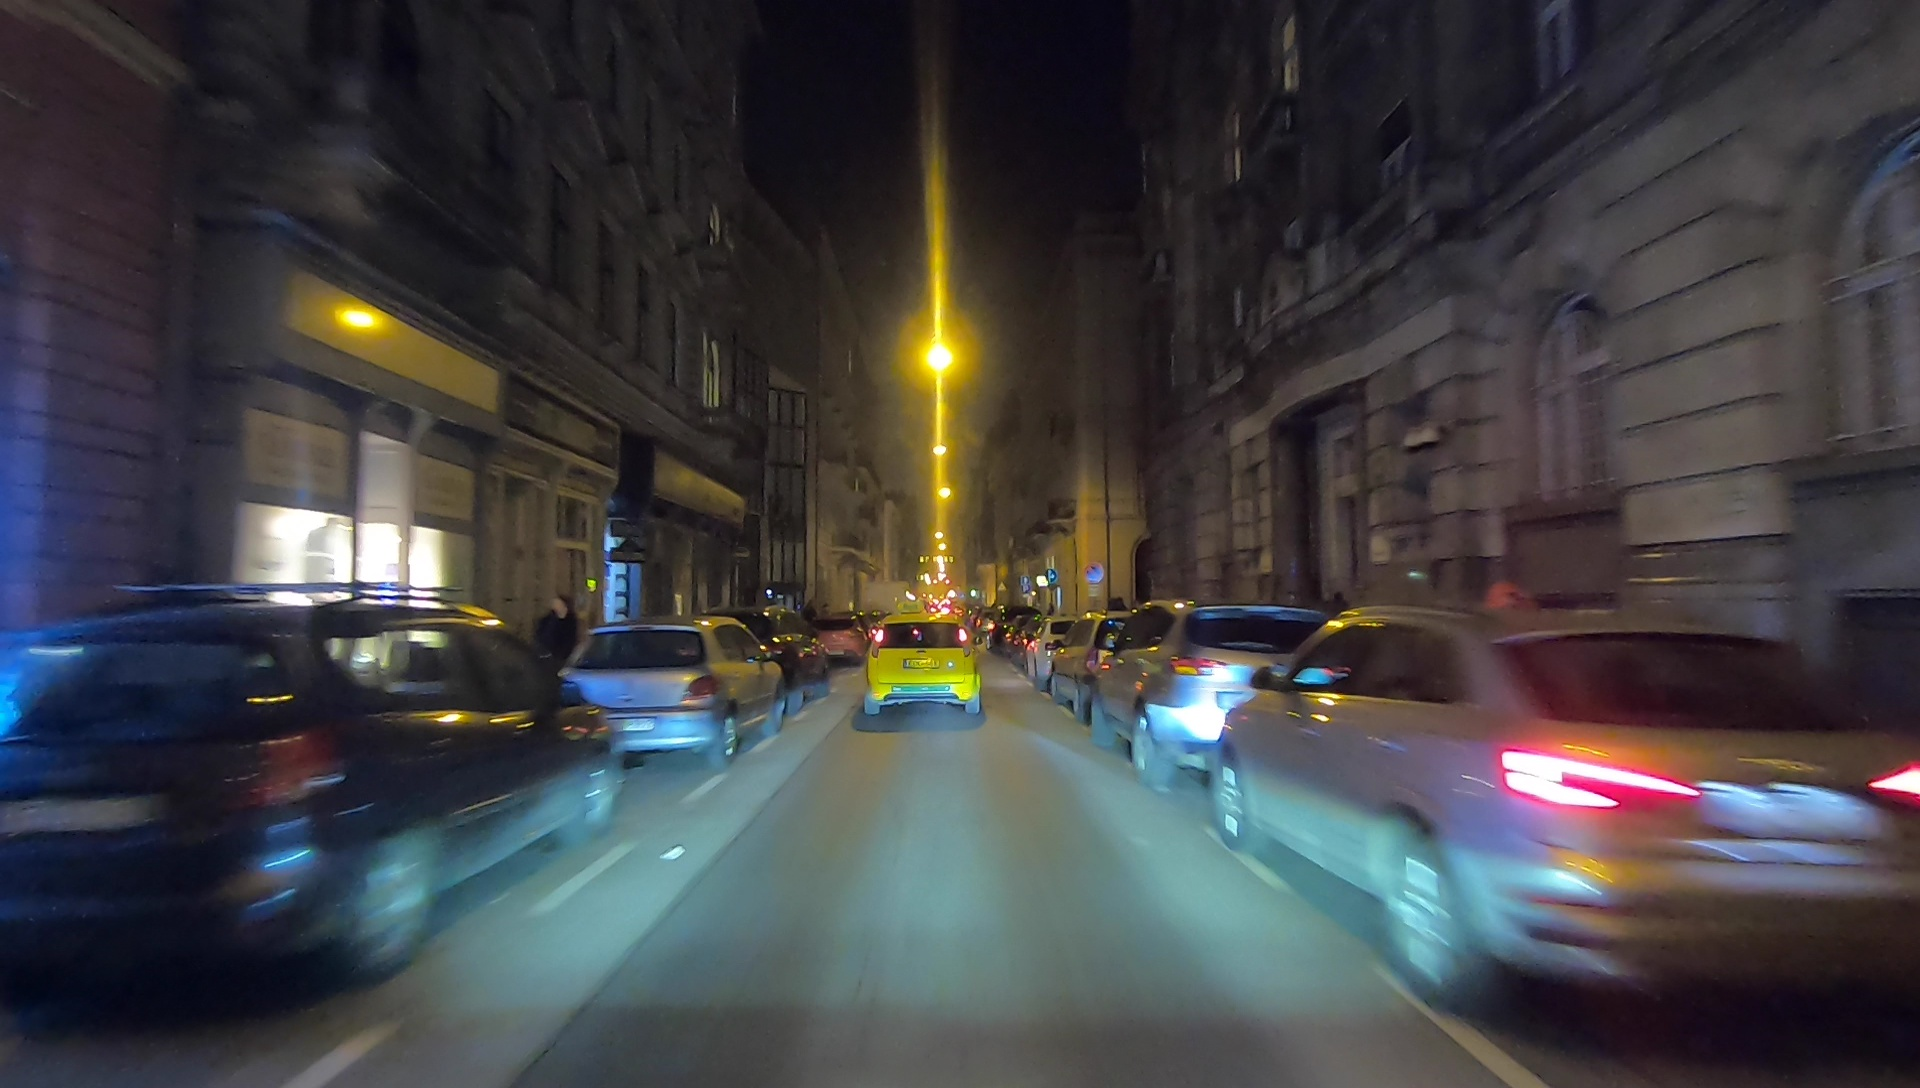person: (528, 597, 580, 713)
